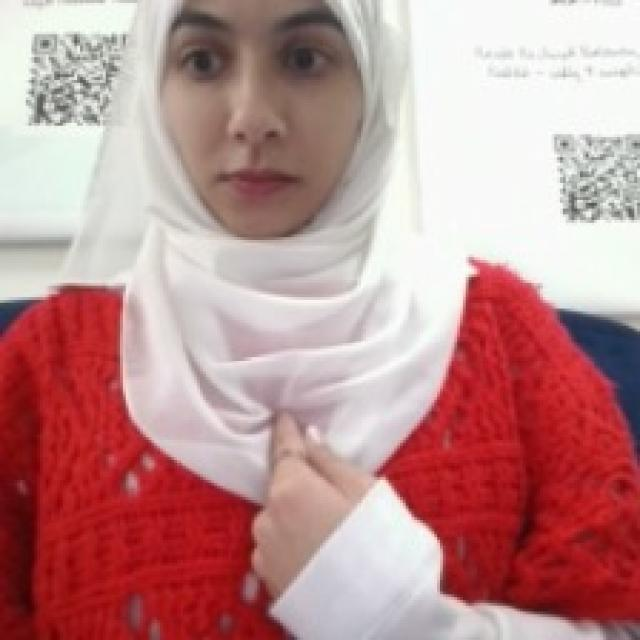me: (243, 402, 376, 603)
